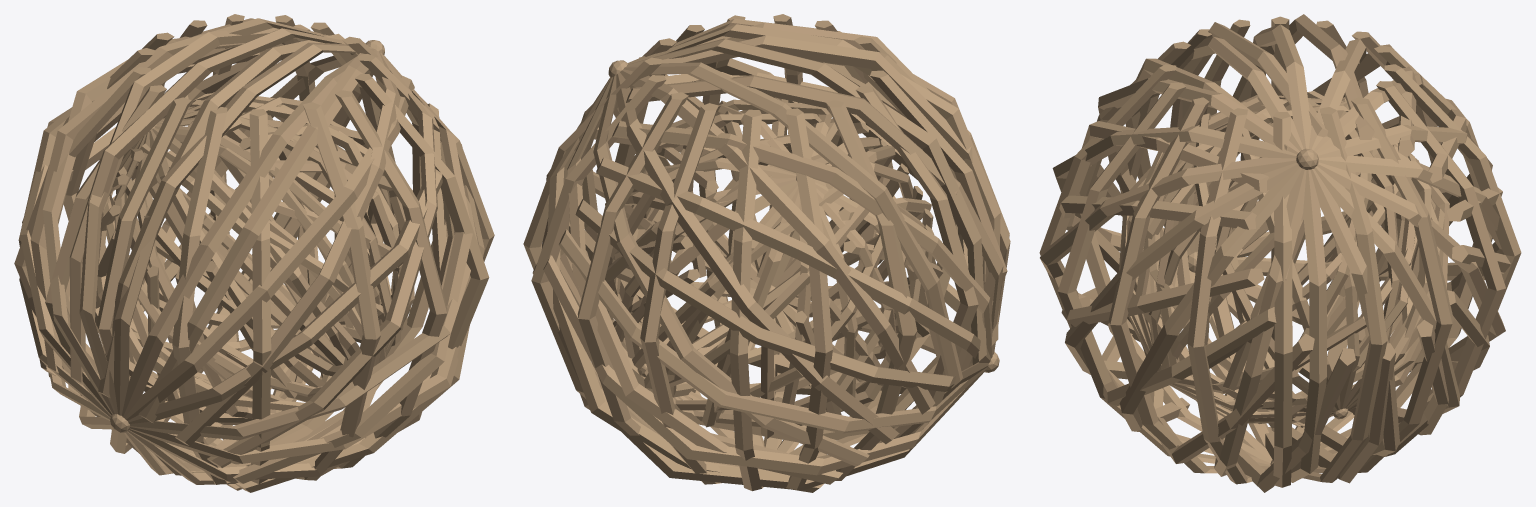
The model's file is tumbleweed.fbx.
The picture shows the model from 3 angles, left to right: view 1: azimuth 30°, elevation 25°; view 2: azimuth 150°, elevation 25°; view 3: azimuth 270°, elevation 25°; orthographic projection.
Parts seen in each view (by area): view 1: Cylinder.002; view 2: Cylinder.002; view 3: Cylinder.002.
Part boxes in pixels (left/top/right/bottom): Cylinder.002: left=14, top=14, right=494, bottom=492; Cylinder.002: left=523, top=14, right=1010, bottom=492; Cylinder.002: left=1039, top=14, right=1521, bottom=492.
Size of the model in its own units: 201 by 199 by 200.
